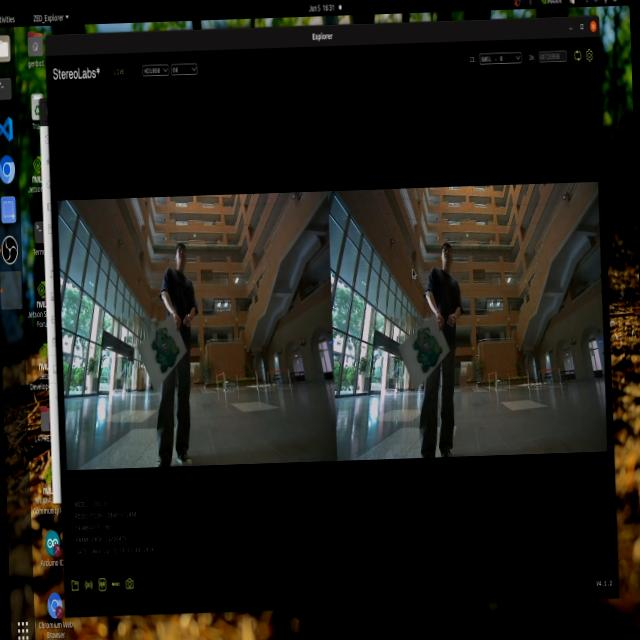green: (409, 318, 446, 387), (150, 326, 182, 378)
